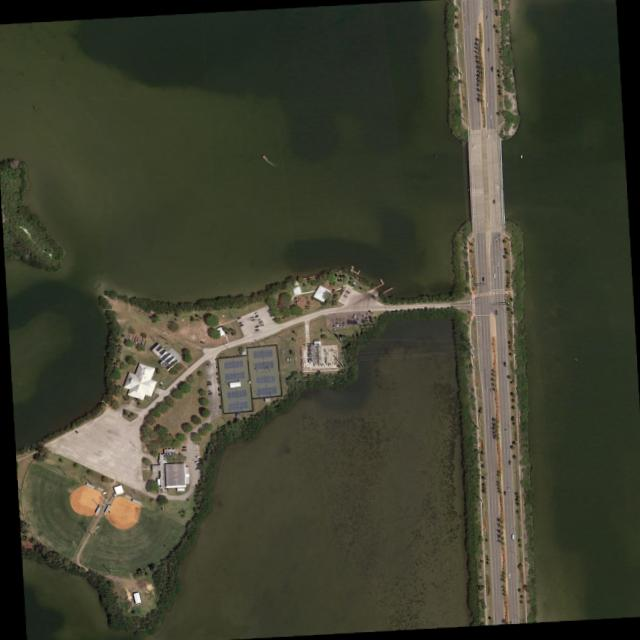small-vehicle: (267, 310, 273, 315), (331, 324, 335, 331), (342, 294, 347, 299), (268, 313, 274, 317), (265, 309, 272, 312), (511, 534, 514, 541), (343, 292, 348, 296), (344, 290, 349, 294), (253, 314, 258, 318), (257, 320, 262, 324), (256, 318, 261, 322), (250, 318, 255, 322), (237, 323, 242, 327), (271, 317, 276, 321), (495, 261, 498, 267), (502, 361, 505, 367), (341, 322, 344, 328), (205, 383, 211, 386), (194, 455, 200, 458), (507, 573, 510, 579), (235, 317, 240, 320), (493, 236, 496, 241), (492, 273, 495, 278), (494, 310, 497, 315), (480, 277, 483, 282), (360, 319, 363, 324), (346, 319, 349, 324), (497, 234, 500, 239), (492, 199, 495, 204), (485, 134, 488, 139), (486, 47, 489, 52), (489, 67, 492, 72), (485, 102, 488, 107), (488, 115, 491, 120), (348, 320, 351, 325), (258, 324, 263, 327), (252, 312, 257, 315), (253, 325, 258, 328), (237, 321, 242, 324), (351, 319, 354, 324), (194, 460, 199, 463), (194, 468, 199, 471), (507, 460, 510, 465), (356, 318, 358, 324), (338, 323, 341, 327), (472, 144, 475, 148), (485, 16, 488, 20), (334, 323, 337, 327), (249, 316, 253, 319), (254, 328, 258, 331), (489, 388, 492, 392), (506, 487, 509, 491), (364, 317, 366, 322), (205, 381, 210, 383), (194, 443, 199, 445), (180, 446, 185, 448), (181, 449, 186, 451), (204, 364, 208, 366), (207, 390, 211, 392), (207, 393, 211, 395)
